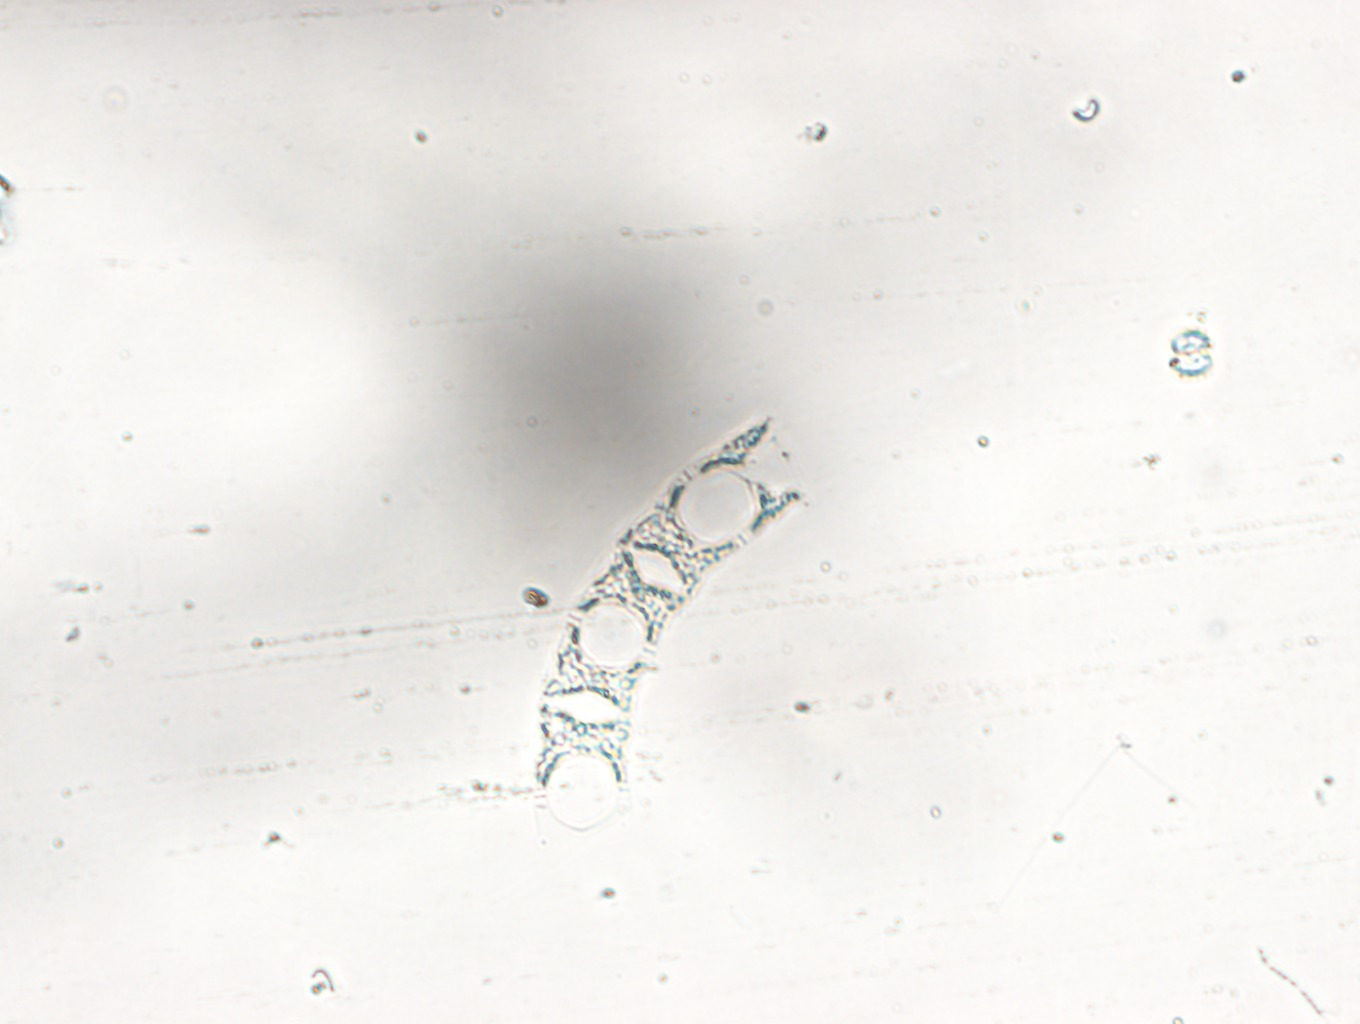eucampia: (536, 419, 807, 786)
